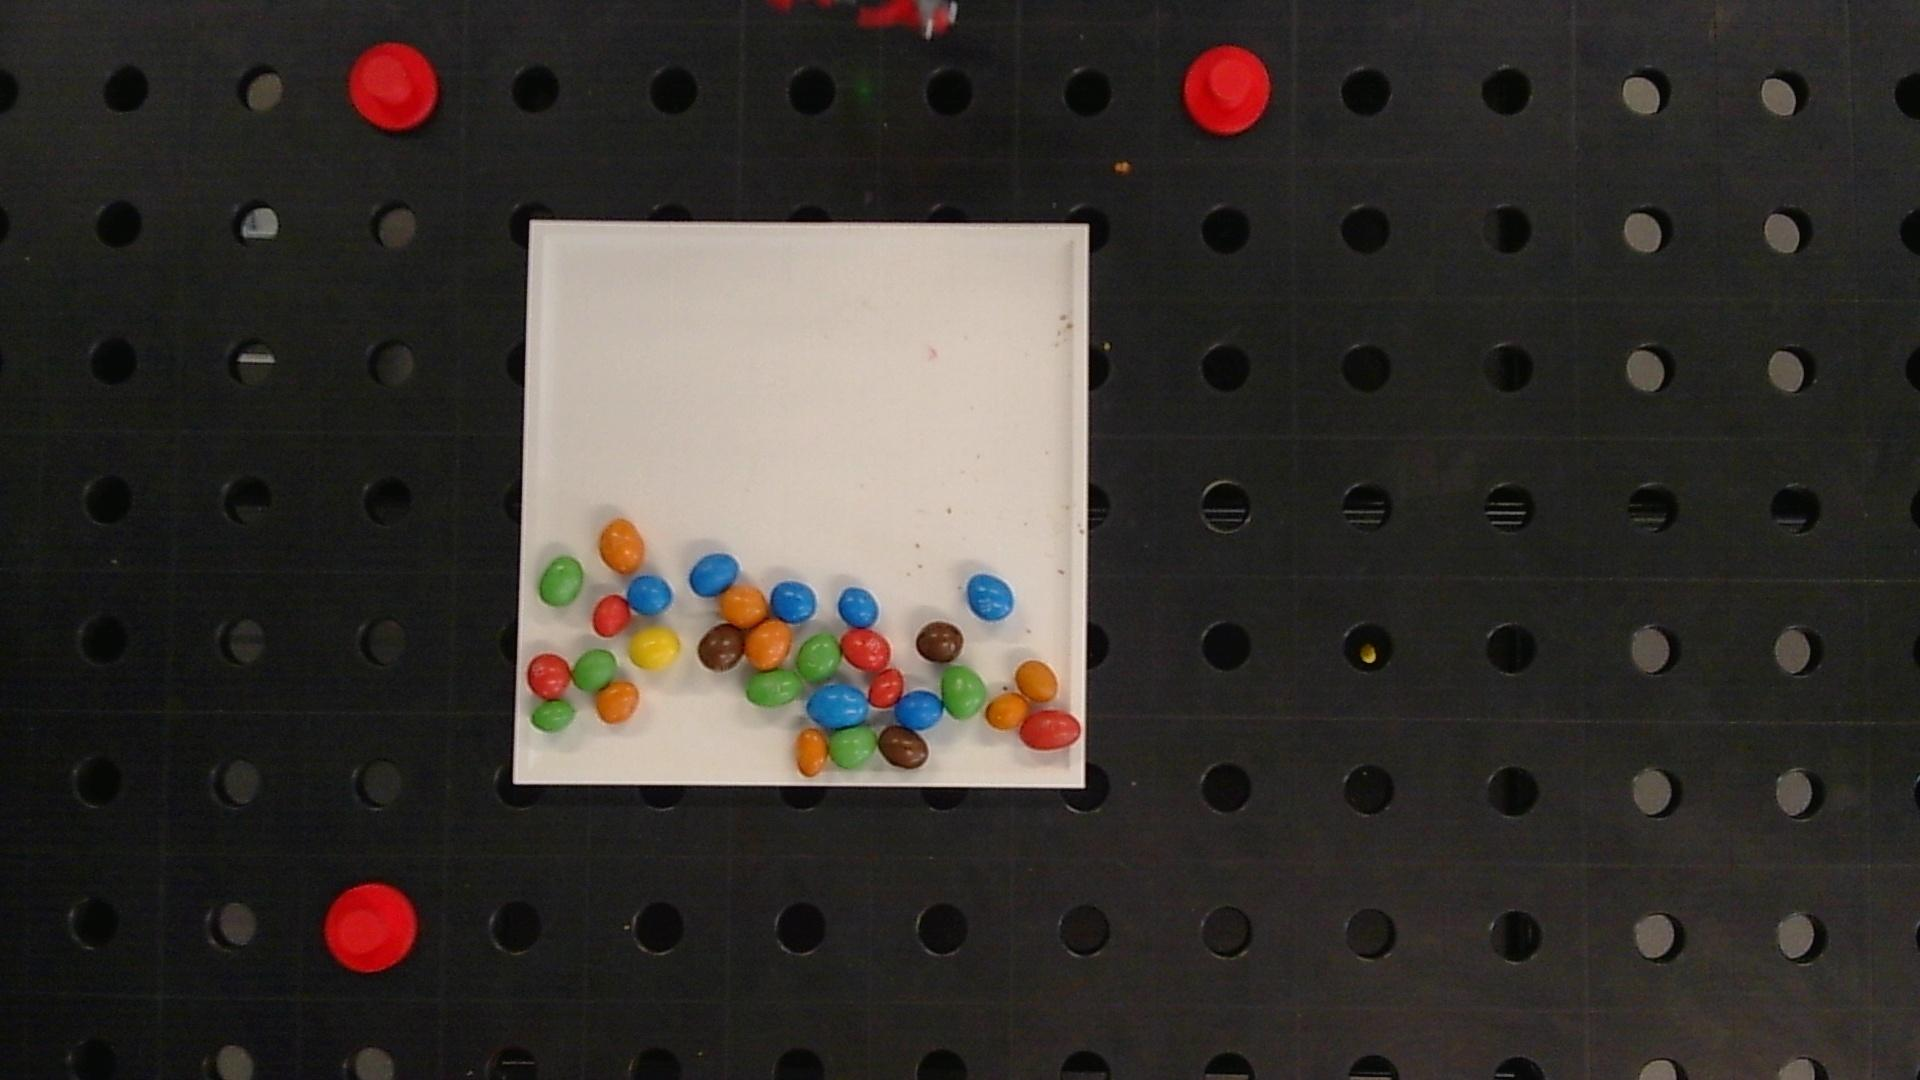blue: (807, 684, 868, 728), (968, 574, 1014, 621), (690, 554, 738, 596), (895, 691, 944, 728), (628, 575, 673, 615), (771, 582, 815, 621), (839, 588, 877, 628)
brown: (698, 624, 745, 670), (878, 725, 928, 769), (916, 620, 963, 663)
green: (942, 667, 986, 719), (539, 556, 583, 605), (798, 633, 841, 682), (746, 670, 803, 707), (831, 725, 880, 767), (574, 649, 616, 690), (530, 699, 576, 733)
orange: (746, 618, 794, 671), (599, 520, 645, 574), (720, 584, 769, 626), (1015, 659, 1059, 702), (597, 682, 640, 724), (985, 692, 1027, 731), (795, 729, 827, 778)
red: (1021, 711, 1080, 748), (843, 629, 891, 671), (527, 653, 571, 698), (592, 595, 633, 637), (869, 669, 905, 707)
yellow: (629, 628, 682, 670)
